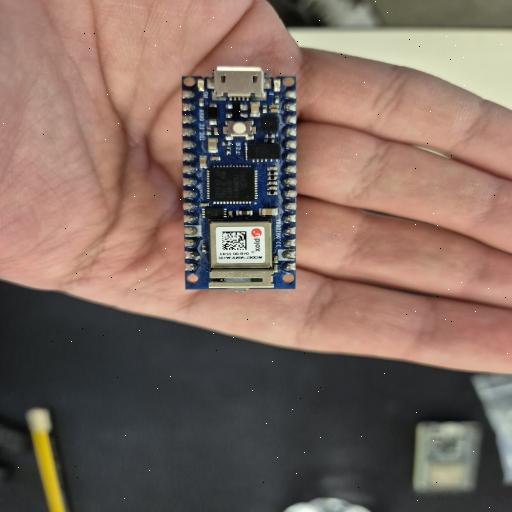arduino-nano-iot-33: (182, 75, 298, 291)
